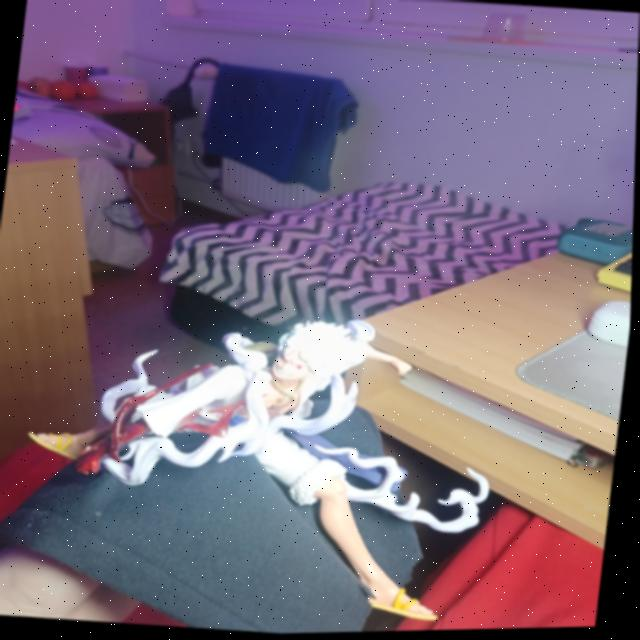luffy: (5, 287, 478, 640)
